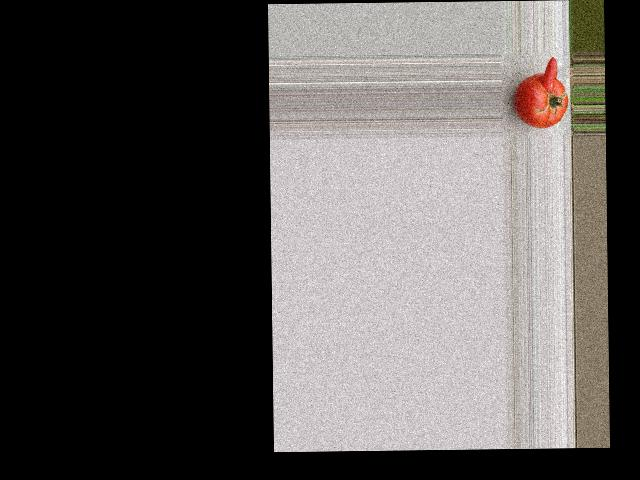tomato: (514, 73, 568, 129)
